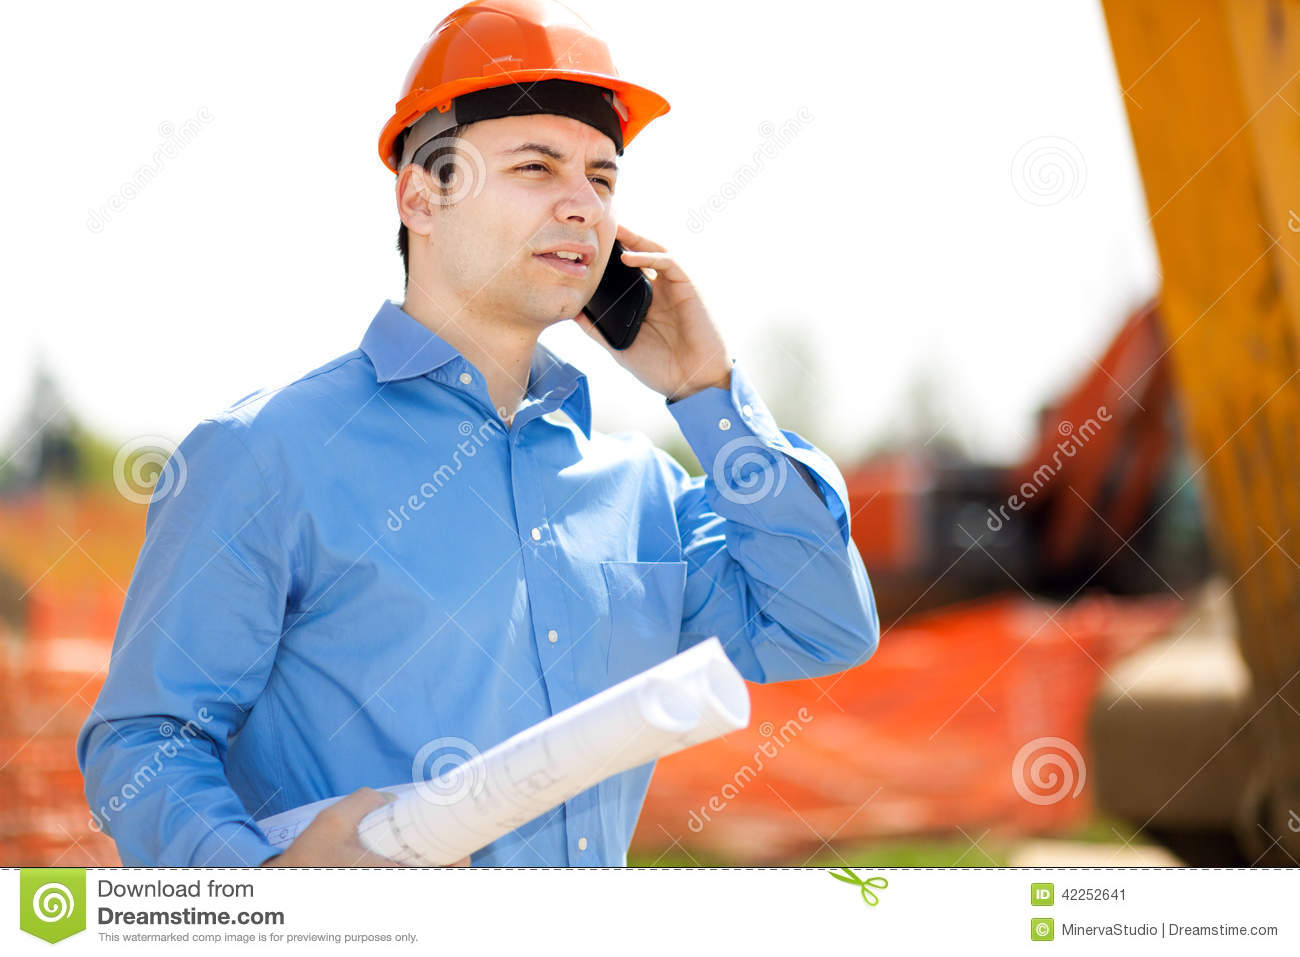phone: (586, 247, 656, 345)
talk: (489, 129, 714, 399)
